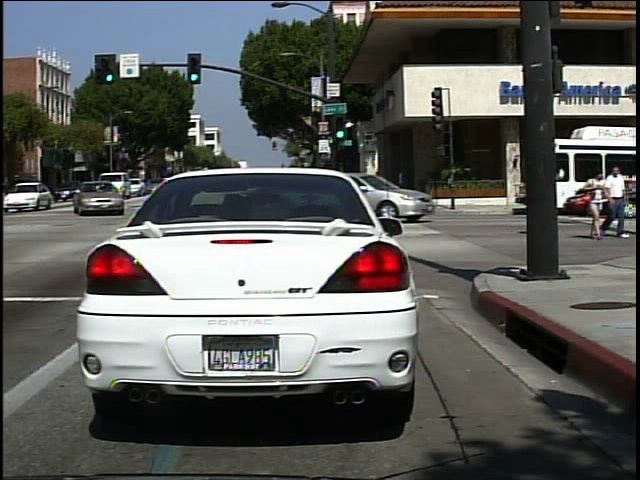person: (604, 163, 630, 243), (584, 163, 609, 241), (527, 166, 549, 238)
